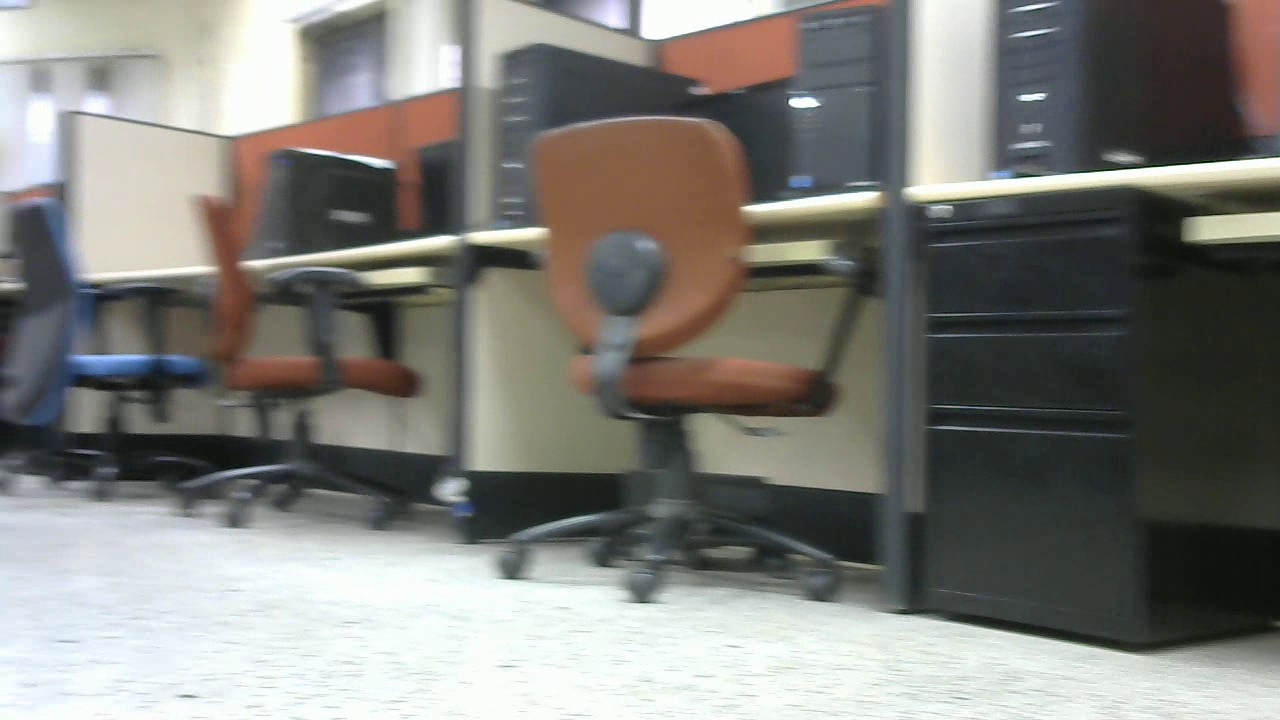chair: (487, 85, 855, 607), (192, 150, 426, 527), (5, 191, 215, 498)
